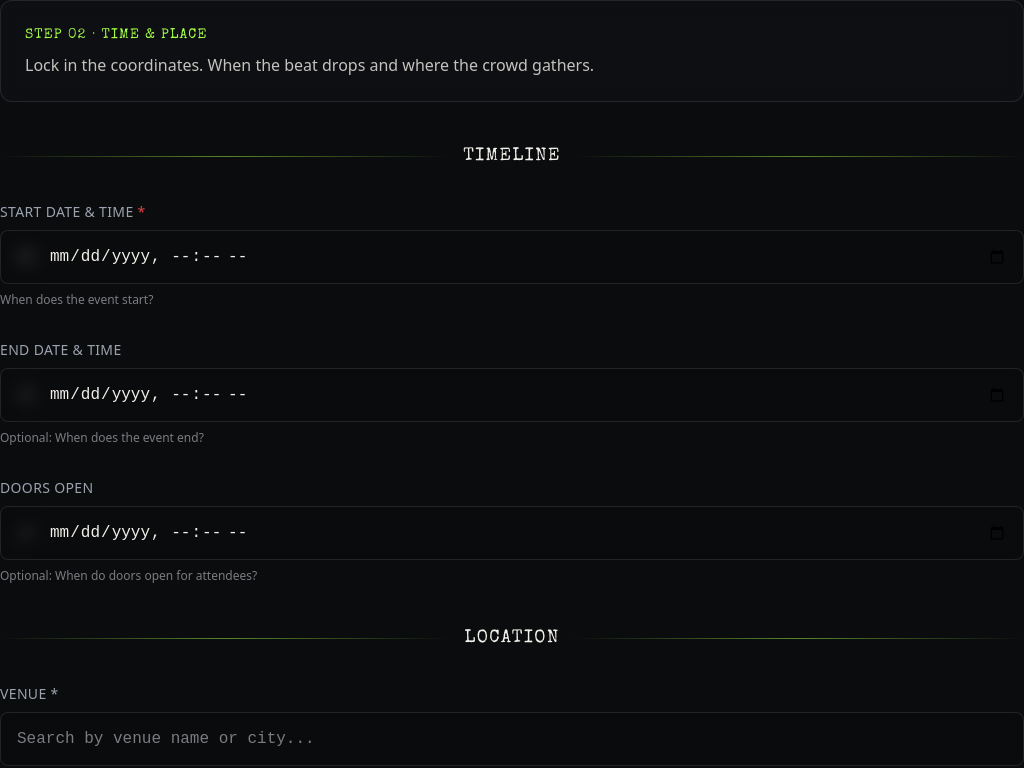
it: ScheduleStep › venue selection › should show venue search dropdown when focused
Focus the dropdown named "search for venue" at (512, 739), box [0,712,1023,766]
(page scrolled)
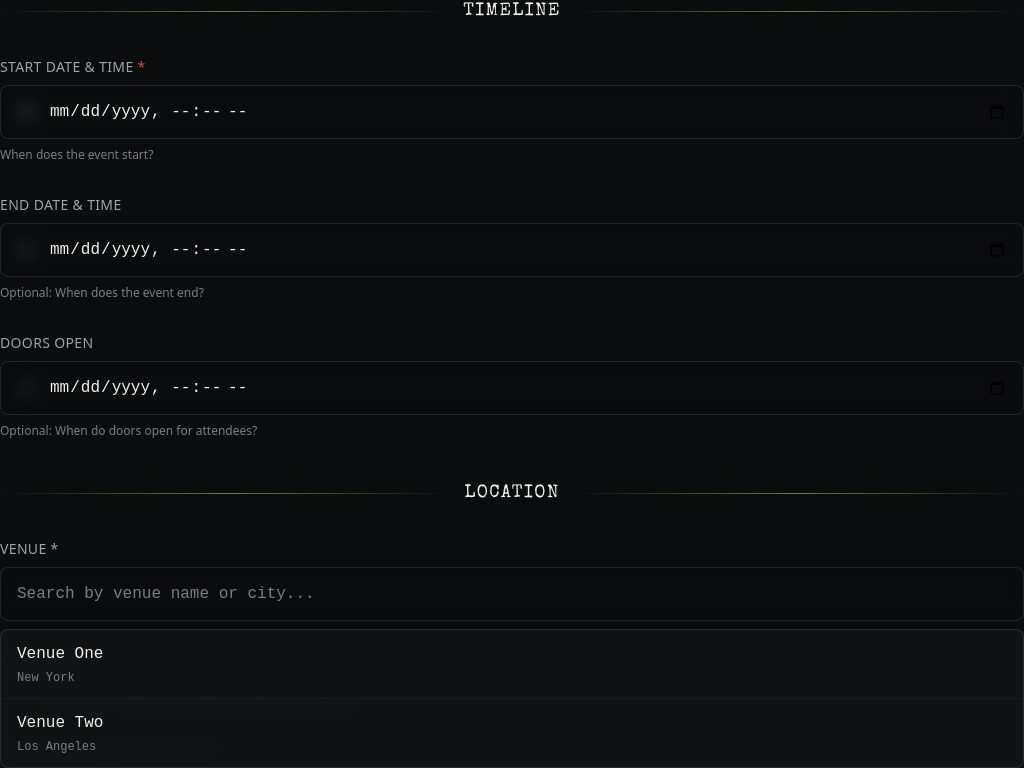
Expected: the text "Venue One" is shown, [17,645,103,663]
Expected: the text "Venue Two" is shown, [17,714,103,732]
